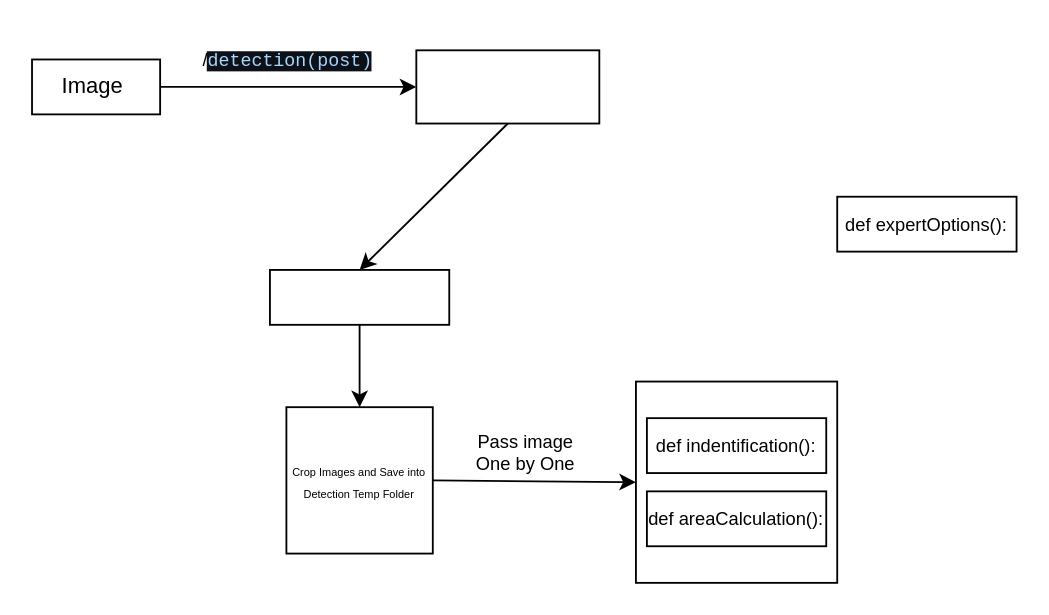
Some shapes in this 1049 by 615 pixel diagram are drawn without their labels. Here are the shapes that lost their labels. From the top down, the centre of each, then its label:
At [506,86]: "def detect ():".
At [358,296]: "def detection():".
